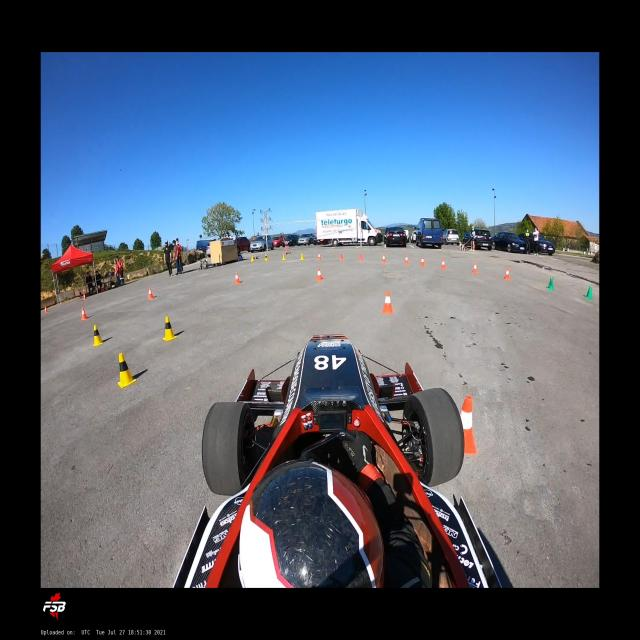orange_cone: (460, 395, 478, 454), (382, 290, 394, 313), (81, 306, 88, 320), (316, 266, 323, 280), (234, 271, 241, 284), (504, 266, 510, 280), (148, 287, 154, 299), (472, 262, 478, 273), (440, 258, 446, 268), (404, 254, 410, 264), (420, 256, 425, 266), (359, 252, 363, 261), (382, 253, 386, 262), (339, 252, 343, 260), (45, 304, 48, 312), (318, 252, 321, 260), (84, 292, 86, 300)
unknown_cone: (546, 276, 554, 290), (585, 284, 592, 298)
yellow_cone: (117, 352, 137, 388), (162, 315, 178, 341), (93, 324, 105, 347), (282, 253, 286, 260), (301, 252, 304, 260), (265, 253, 268, 260), (252, 255, 254, 261)
